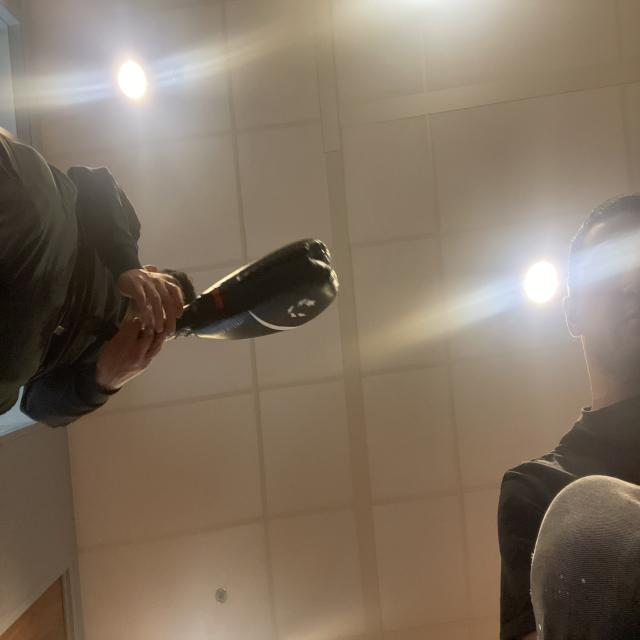paddle: (220, 245, 339, 343)
